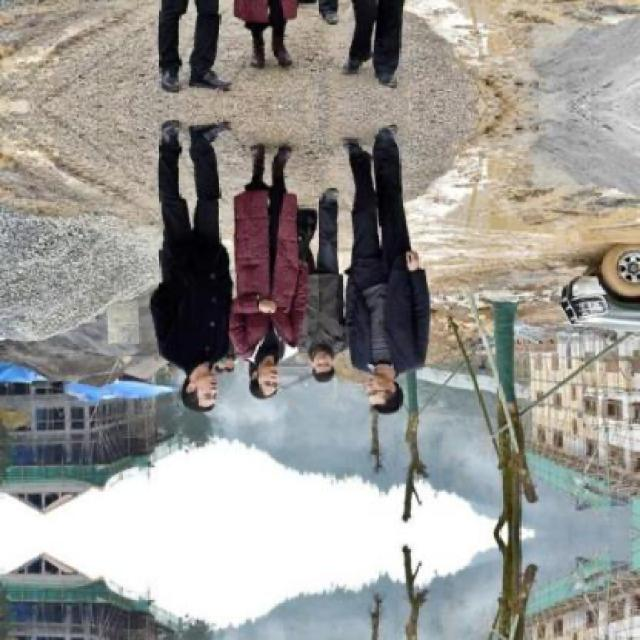sin casco: (352, 349, 420, 424), (170, 350, 226, 441), (253, 321, 284, 420), (310, 334, 336, 391)
